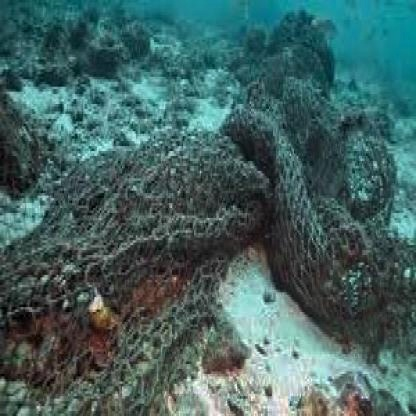net: (4, 102, 393, 391)
